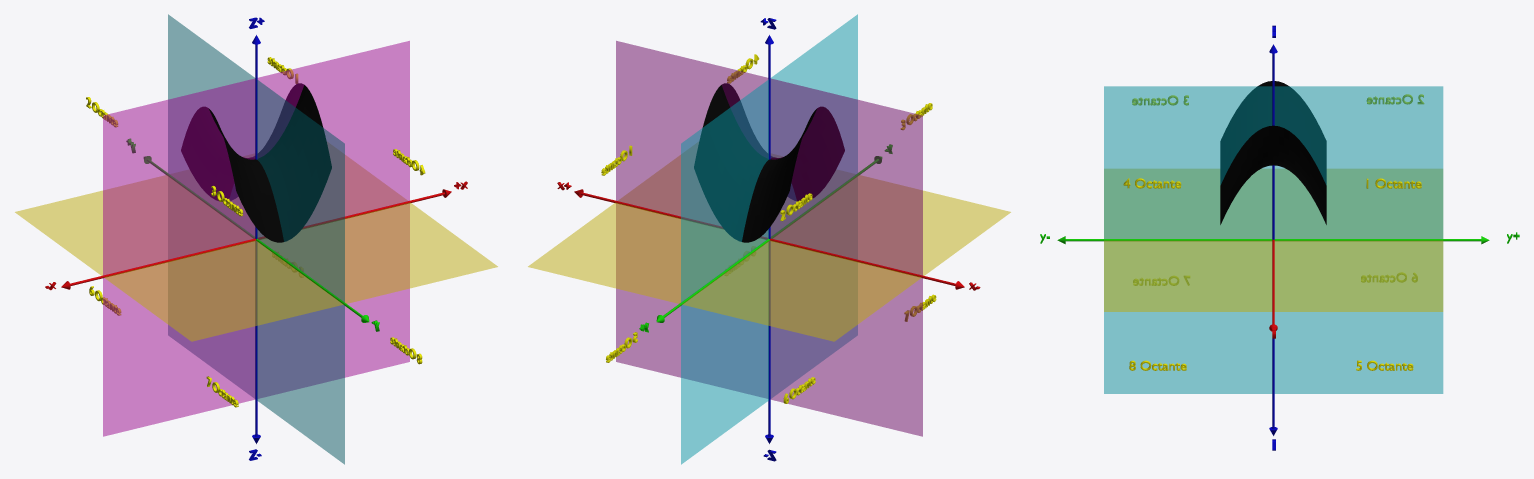
Rendered from octantes.fbx.
3 views of the same model, side by side, from view 1: azimuth 30°, elevation 25°; view 2: azimuth 150°, elevation 25°; view 3: azimuth 270°, elevation 25° (orthographic). The views are drawn at different scales.
Parts seen in each view (by area): view 1: PlanoXZ, PlanoXY, PlanoYZ, Z Function, ejeX, ejeZ, ejeY; view 2: PlanoXZ, PlanoXY, PlanoYZ, Z Function, ejeX, ejeZ, ejeY; view 3: PlanoYZ, PlanoXY, Z Function, ejeY, ejeZ.
Part boxes in pixels (x1,y1,x2,y2): PlanoXZ: [103, 41, 409, 436]; PlanoXY: [15, 155, 497, 341]; PlanoYZ: [168, 14, 344, 464]; Z Function: [181, 83, 331, 242]; ejeX: [61, 189, 451, 289]; ejeZ: [252, 35, 260, 443]; ejeY: [143, 156, 369, 322]; PlanoXZ: [616, 41, 922, 436]; PlanoXY: [528, 155, 1010, 341]; PlanoYZ: [681, 14, 857, 464]; Z Function: [694, 83, 844, 242]; ejeX: [574, 189, 964, 289]; ejeZ: [765, 35, 773, 443]; ejeY: [656, 156, 882, 322]; PlanoYZ: [1104, 86, 1443, 393]; PlanoXY: [1104, 169, 1443, 311]; Z Function: [1220, 81, 1326, 224]; ejeY: [1057, 236, 1489, 244]; ejeZ: [1269, 44, 1277, 435].
Size of the model in its own units: 1097 by 1097 by 1131.
